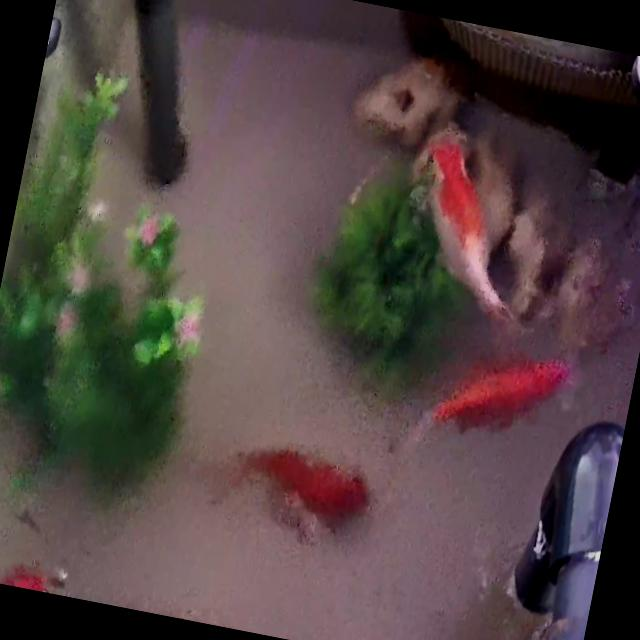fish: (392, 134, 542, 330), (422, 334, 574, 454), (240, 441, 366, 538)
